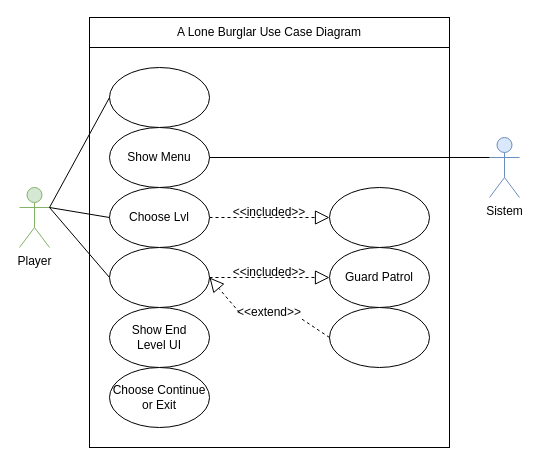
Some shapes in this 540 by 465 pixel diagram are drawn without their labels. Here are the shapes that lost their labels. From the top down, the centre of each, then its label:
At [159,97]: "Enter Menu".
At [379,217]: "Load Lvl".
At [159,277]: "Play Lvl".
At [379,337]: "Game Over".
